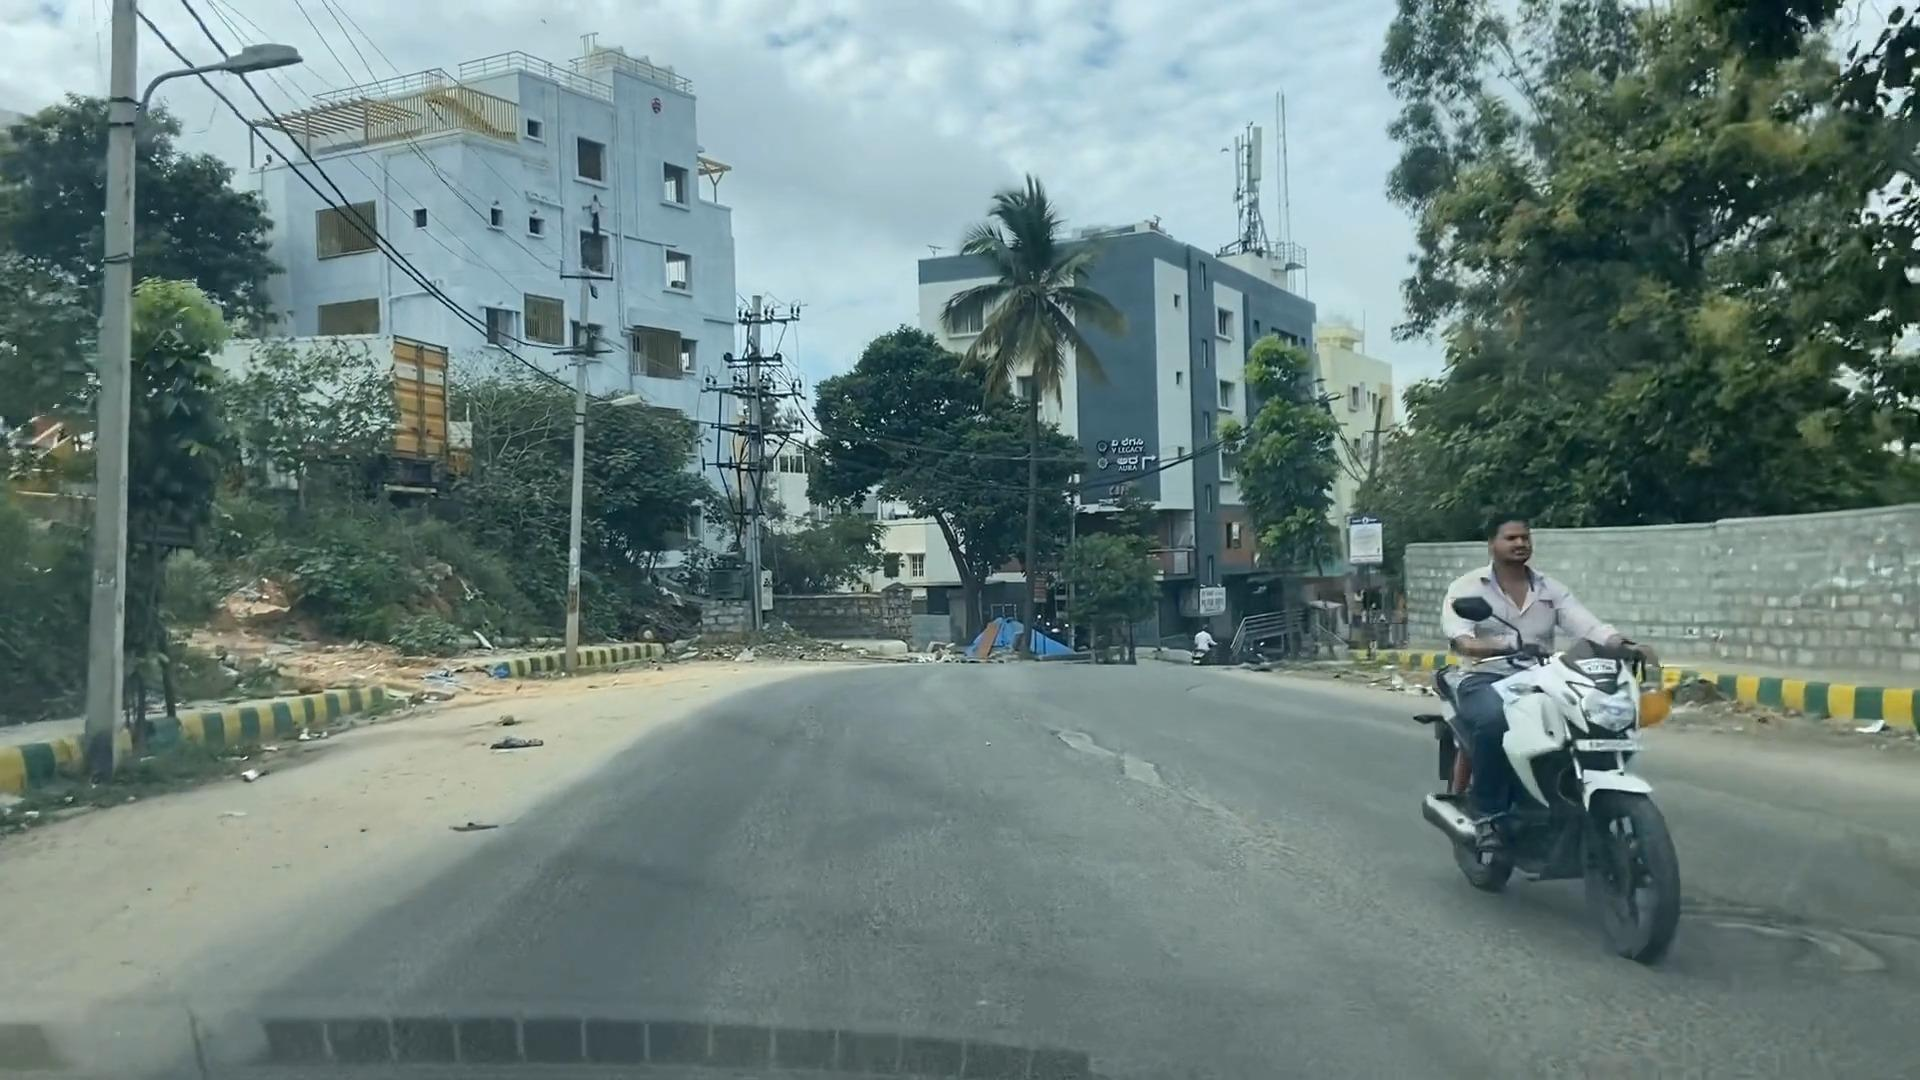LMV: (1373, 451, 1753, 1002)
RoadDamages: (1006, 680, 1254, 873), (1709, 862, 1920, 1015)
